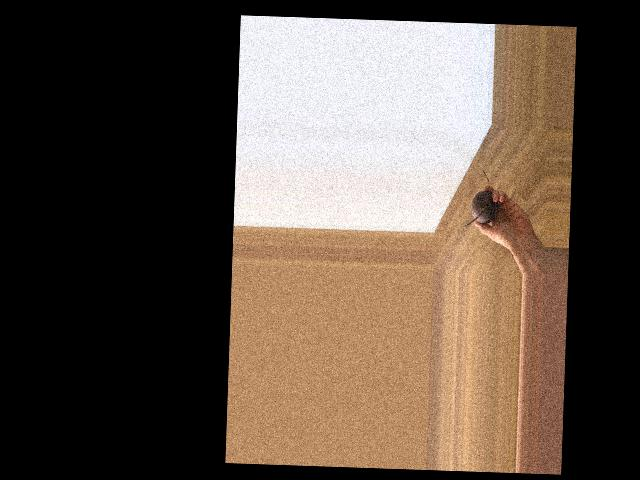beet: (465, 169, 499, 227)
